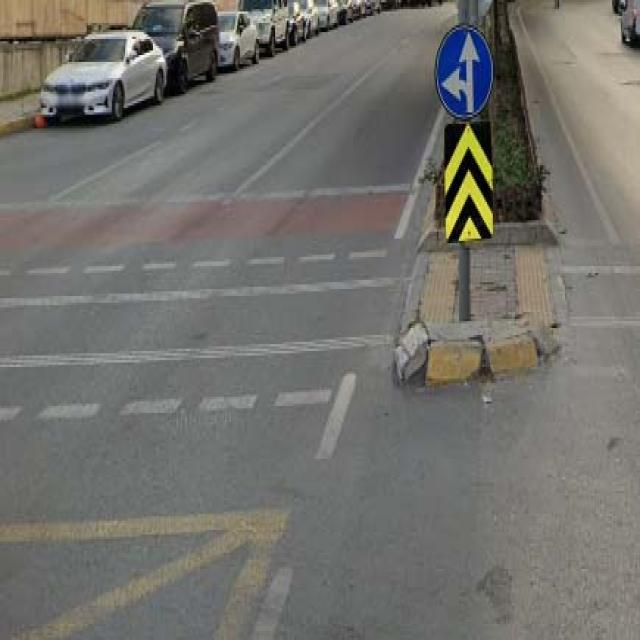ilerisol: (434, 25, 493, 117)
